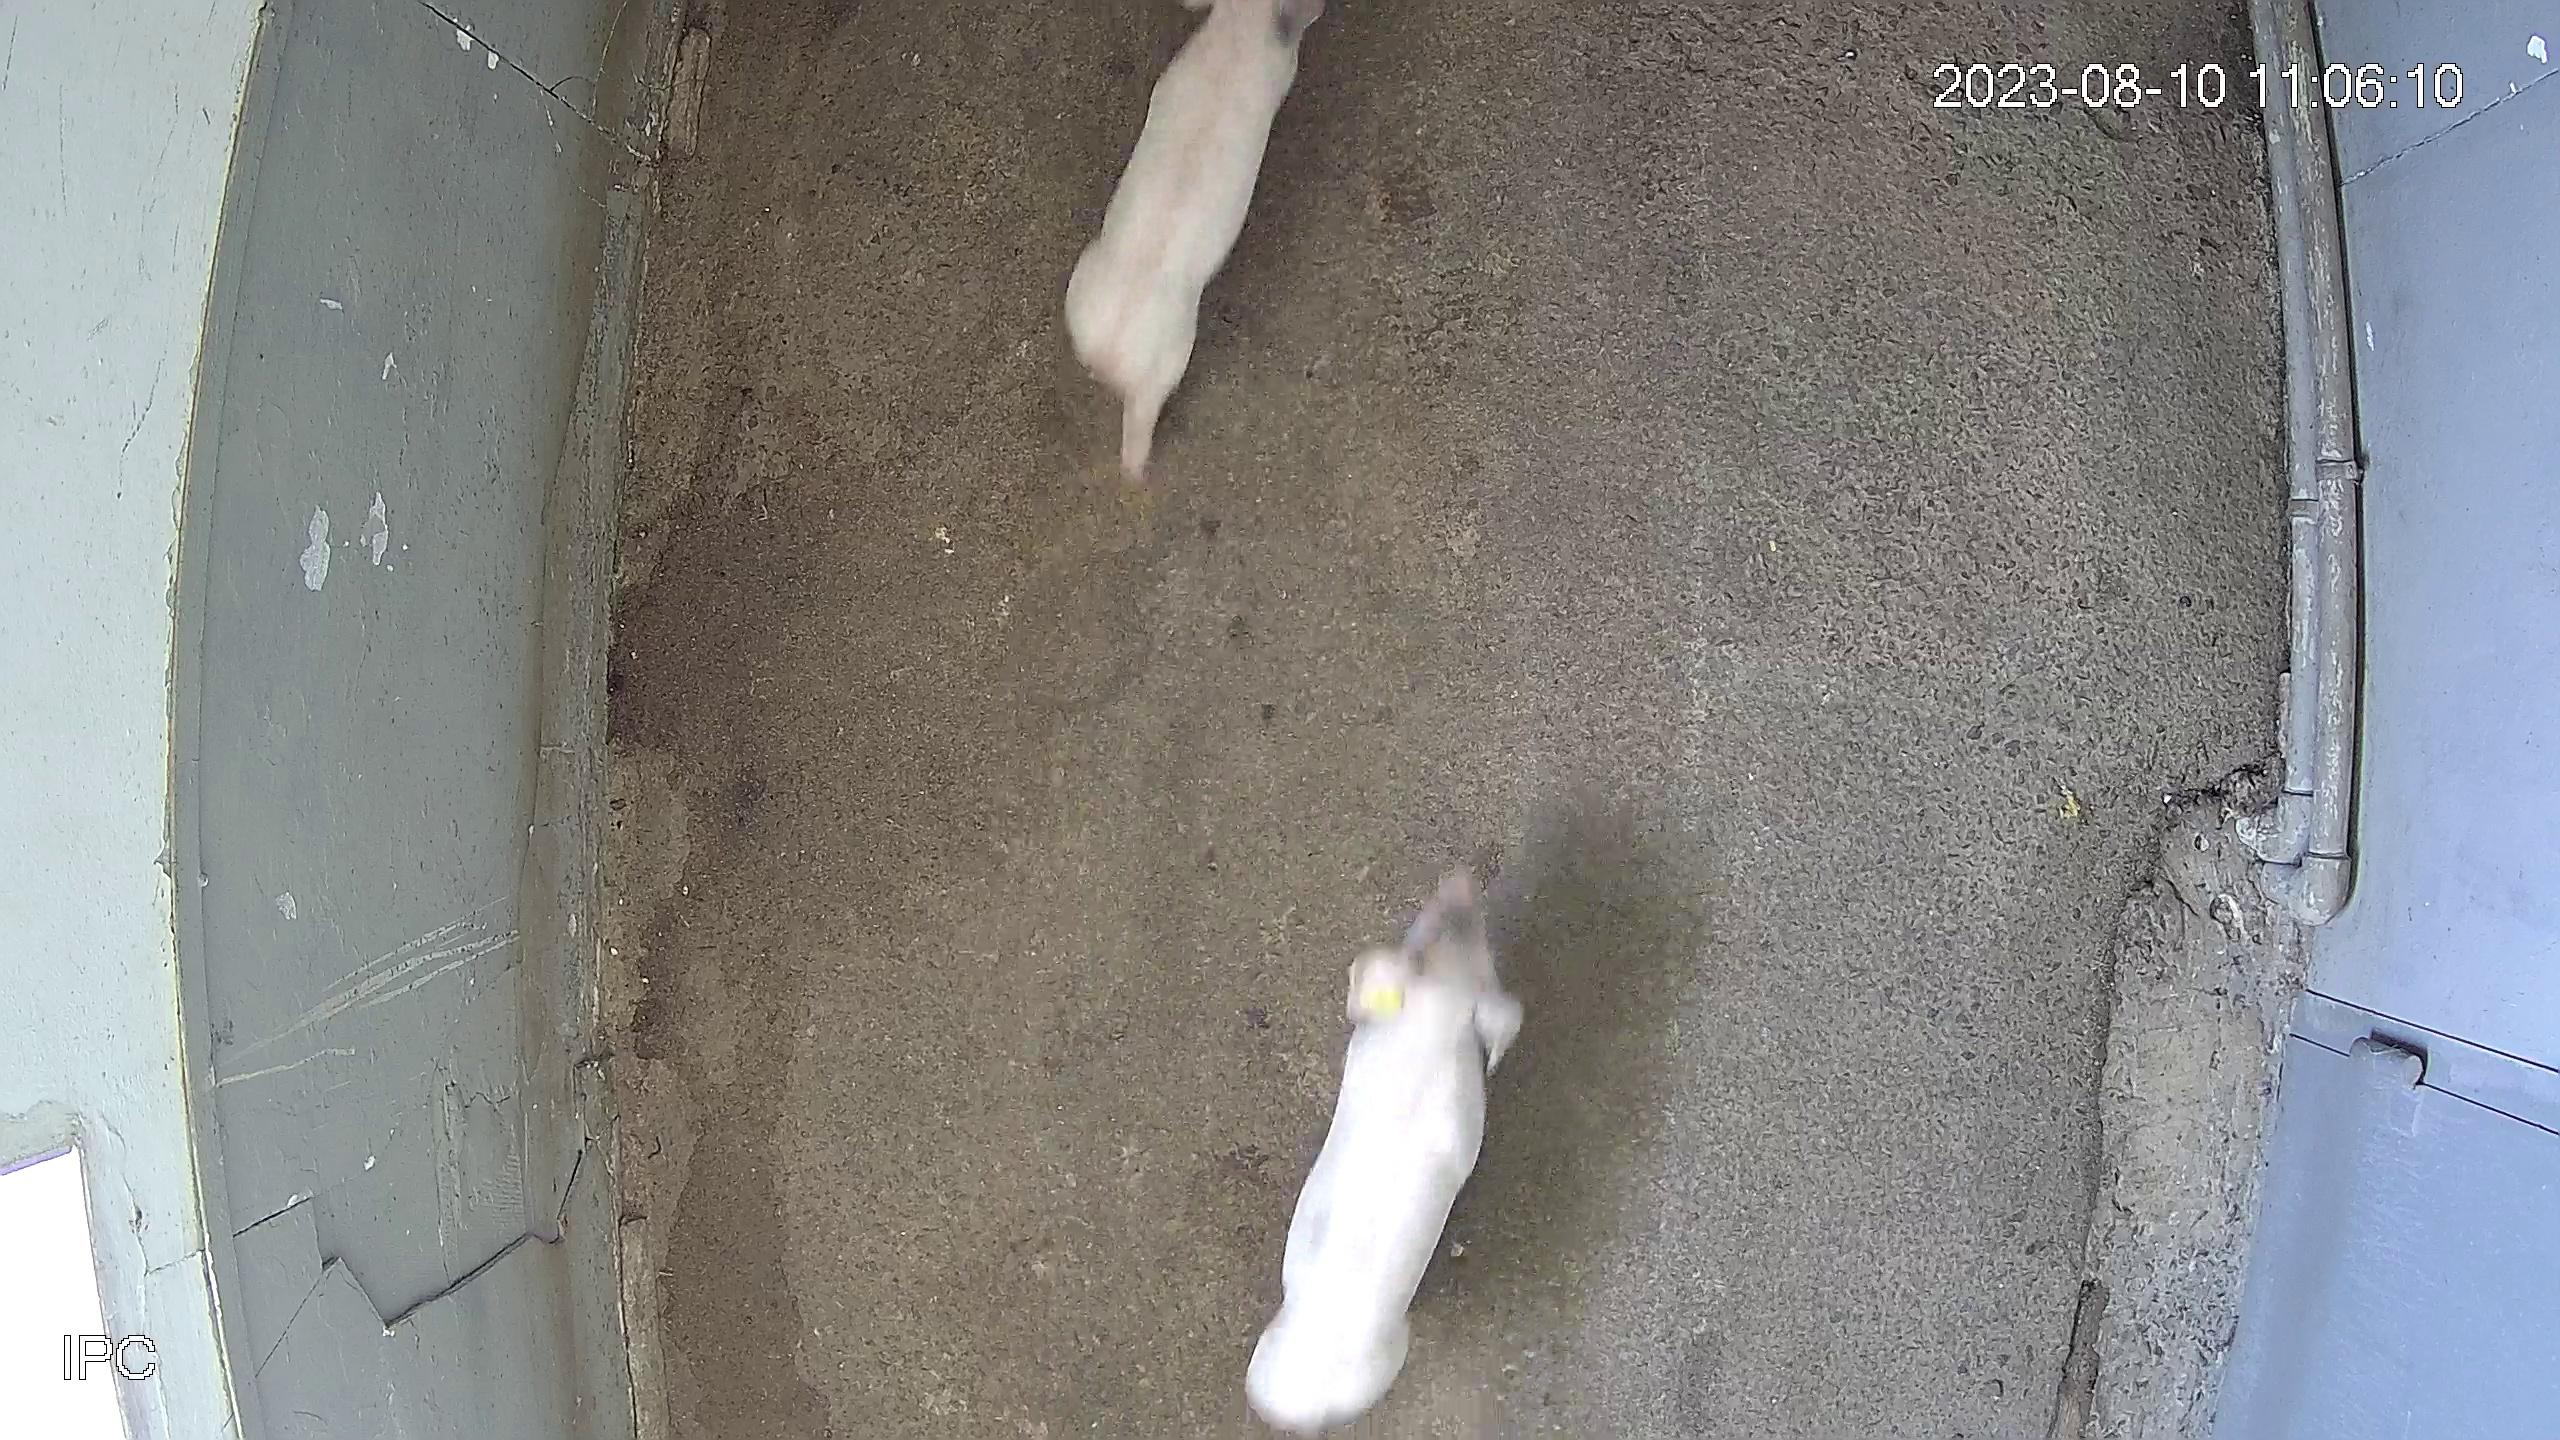Pig: (1247, 870, 1524, 1433), (1065, 0, 1324, 476)
